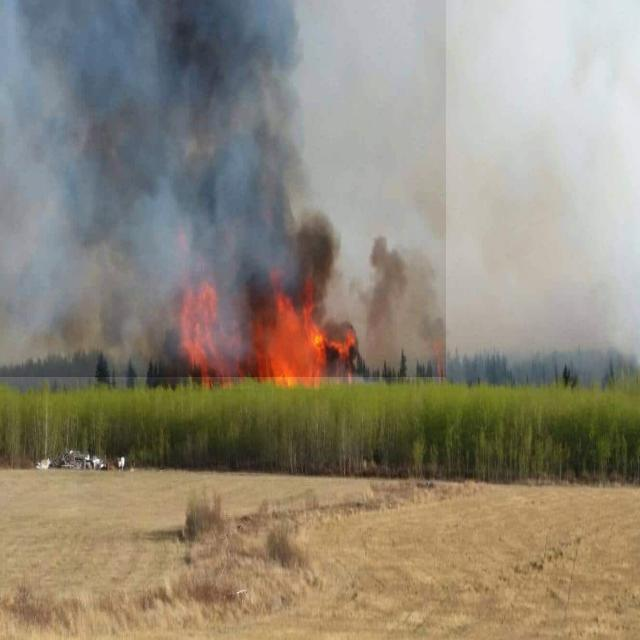Fire: (181, 277, 340, 389)
Smoke: (0, 0, 446, 377)
